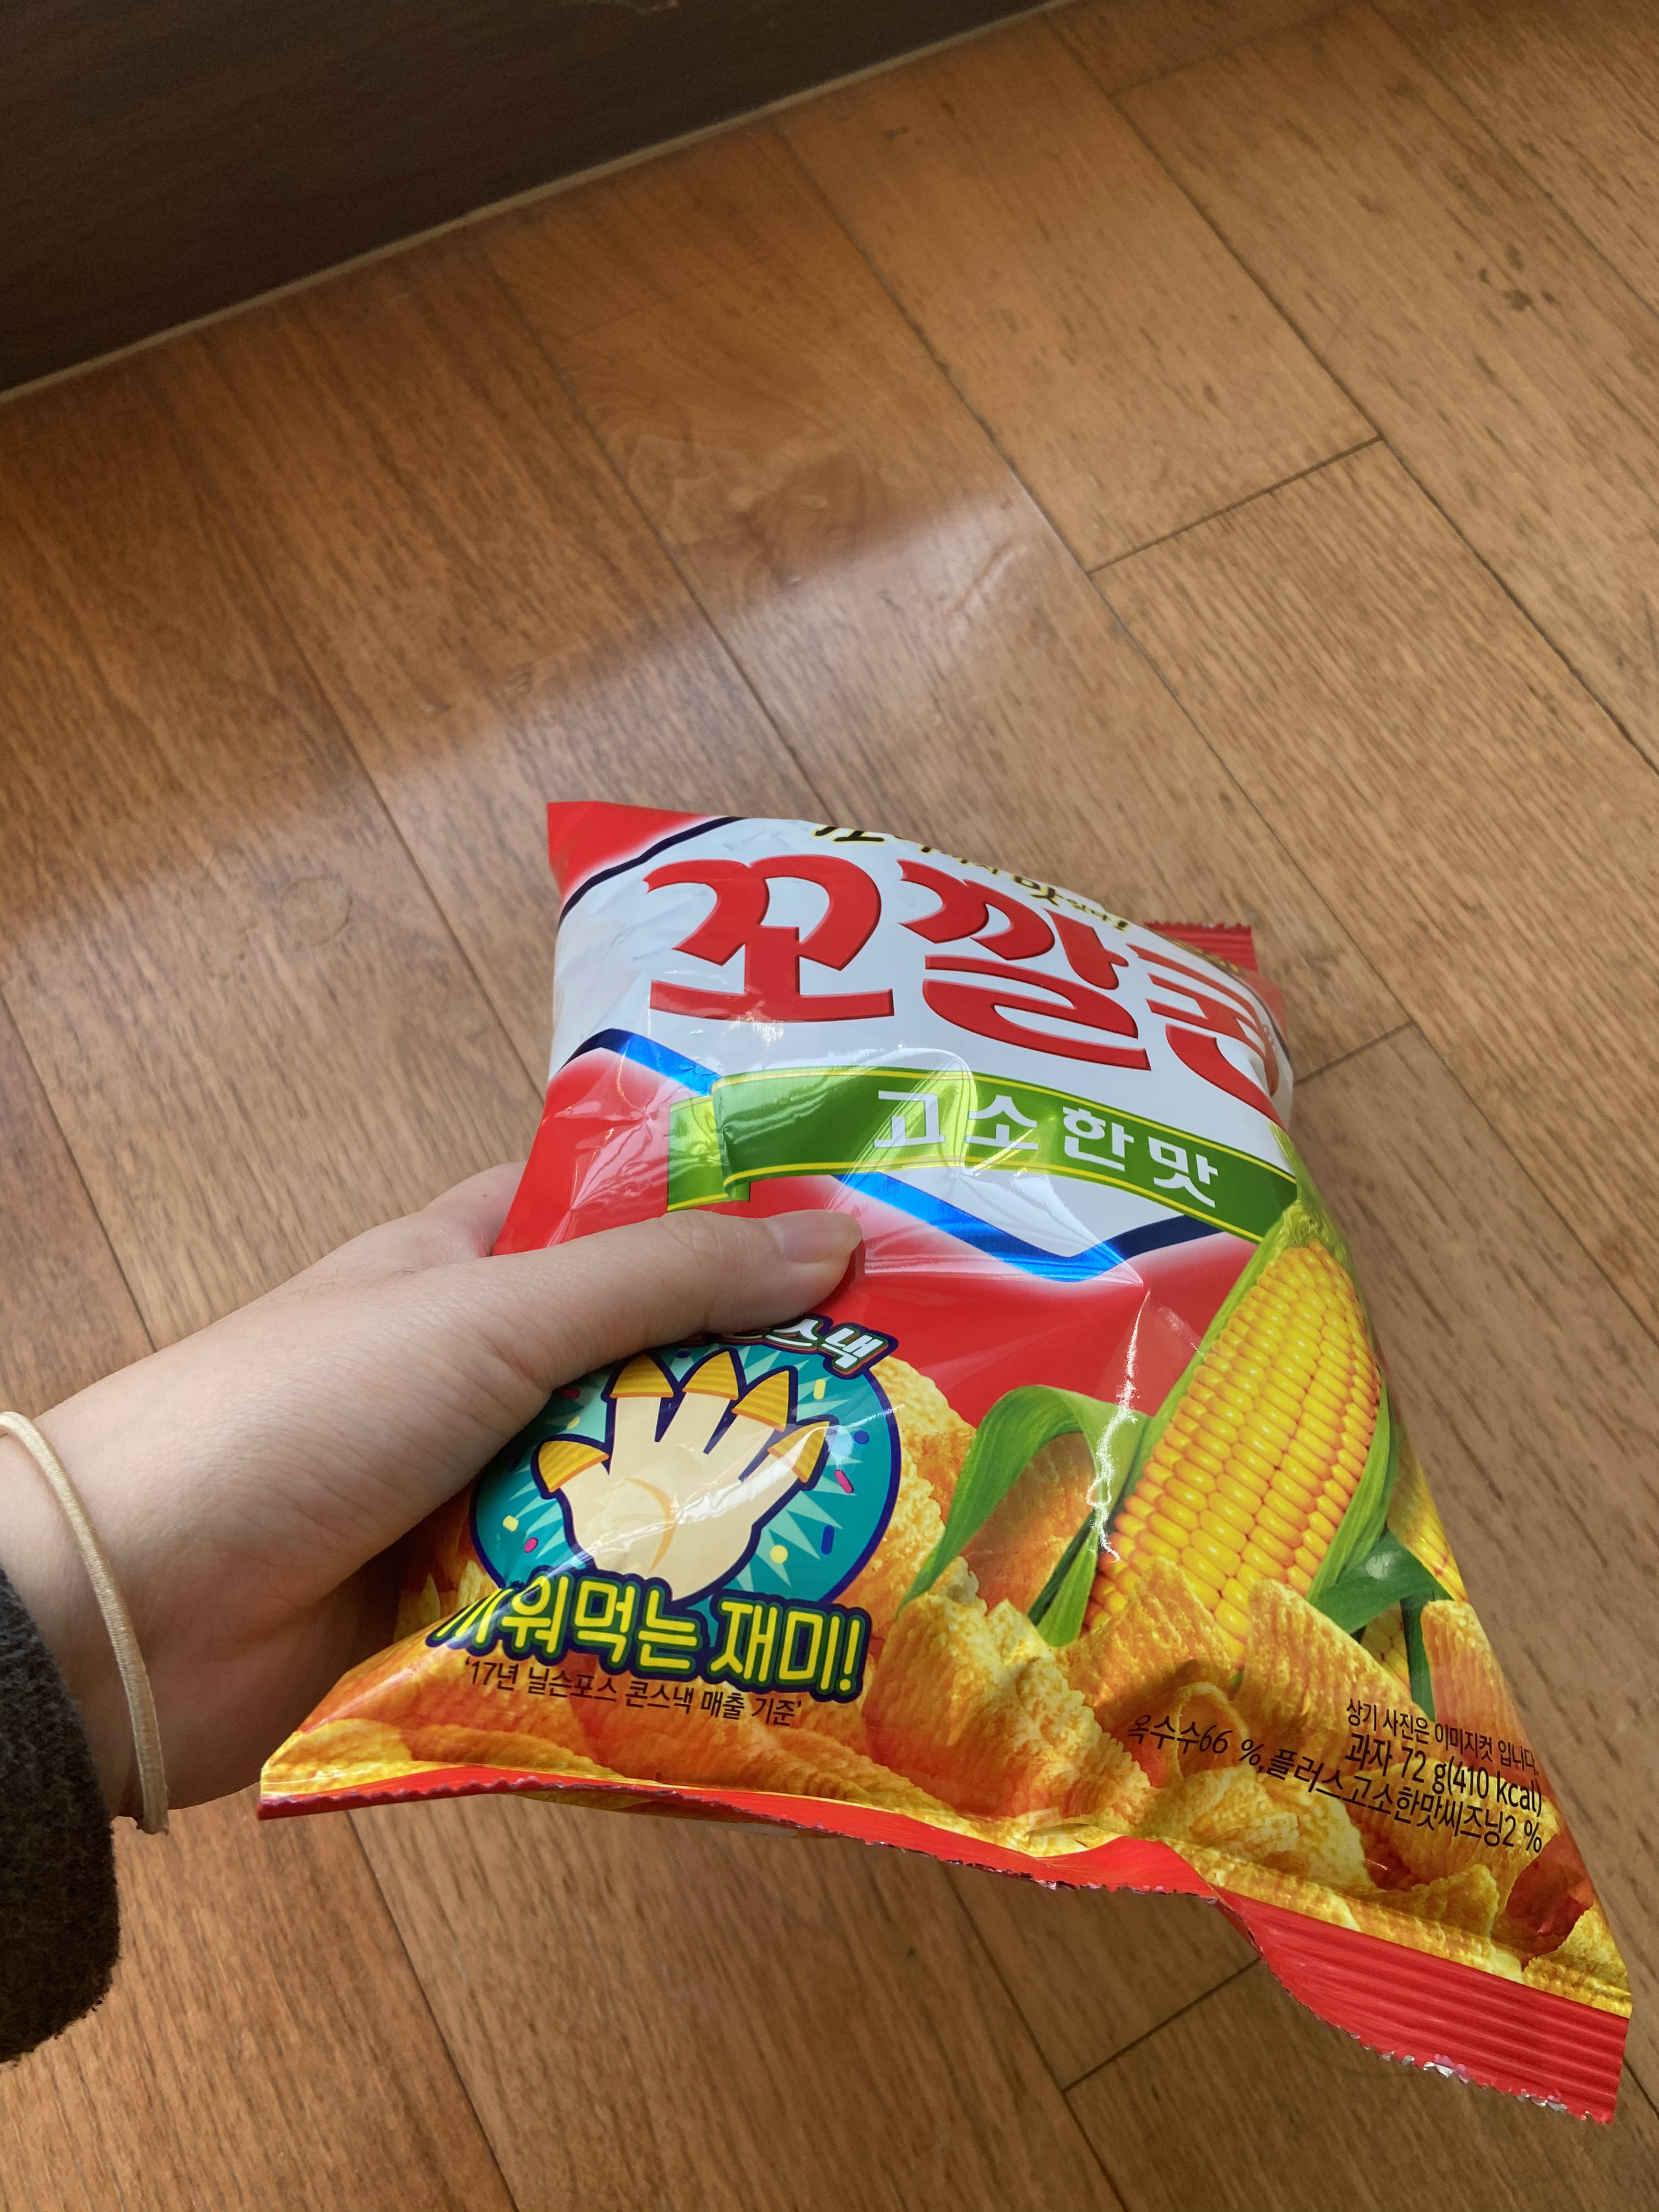ggoggalcon: (247, 765, 1638, 2144)
